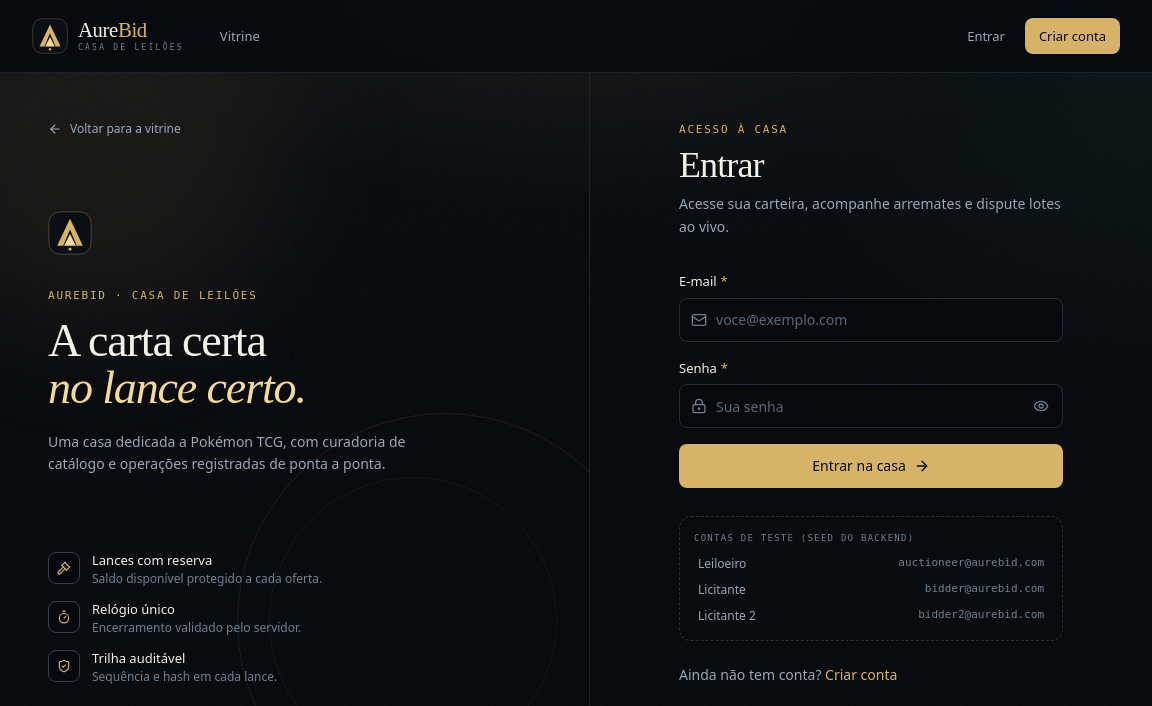
validação de formulários › informa credenciais inválidas sem criar sessão
Type "bidder@aurebid.com" into the field labelled "E-mail *". click: point(871, 320)
box: [679,298,1063,342]
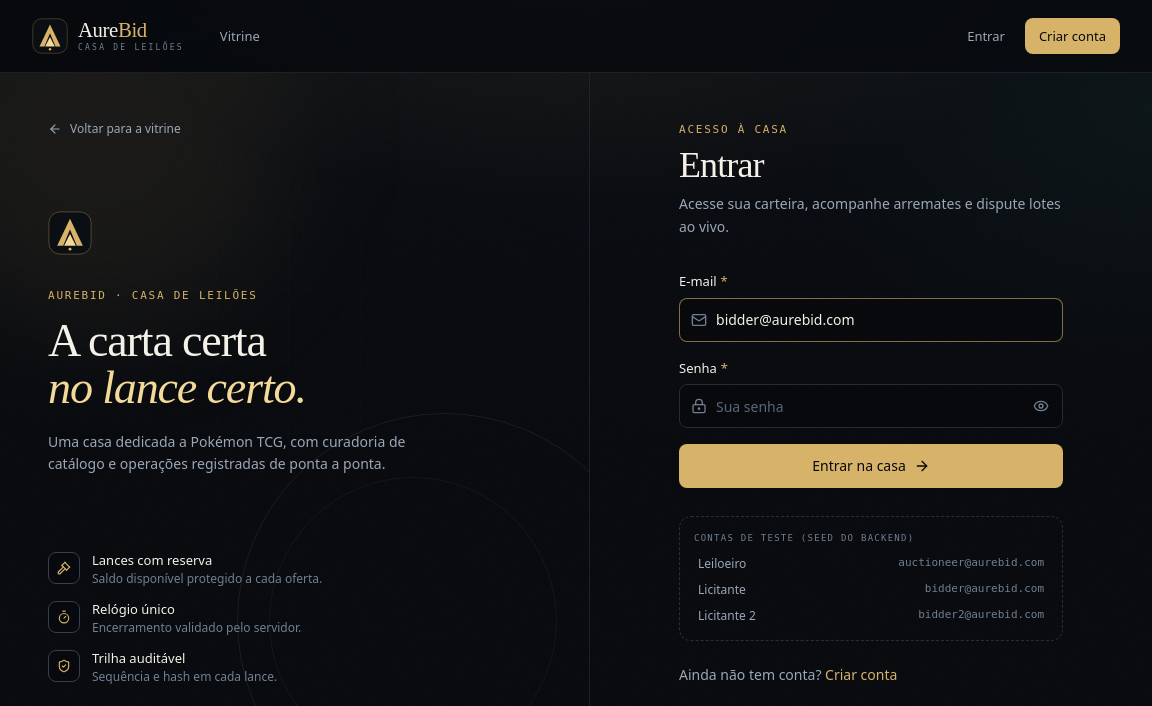
Type "senha-errada" into the password field labelled "Senha *". click: point(871, 406)
box: [679,384,1063,428]
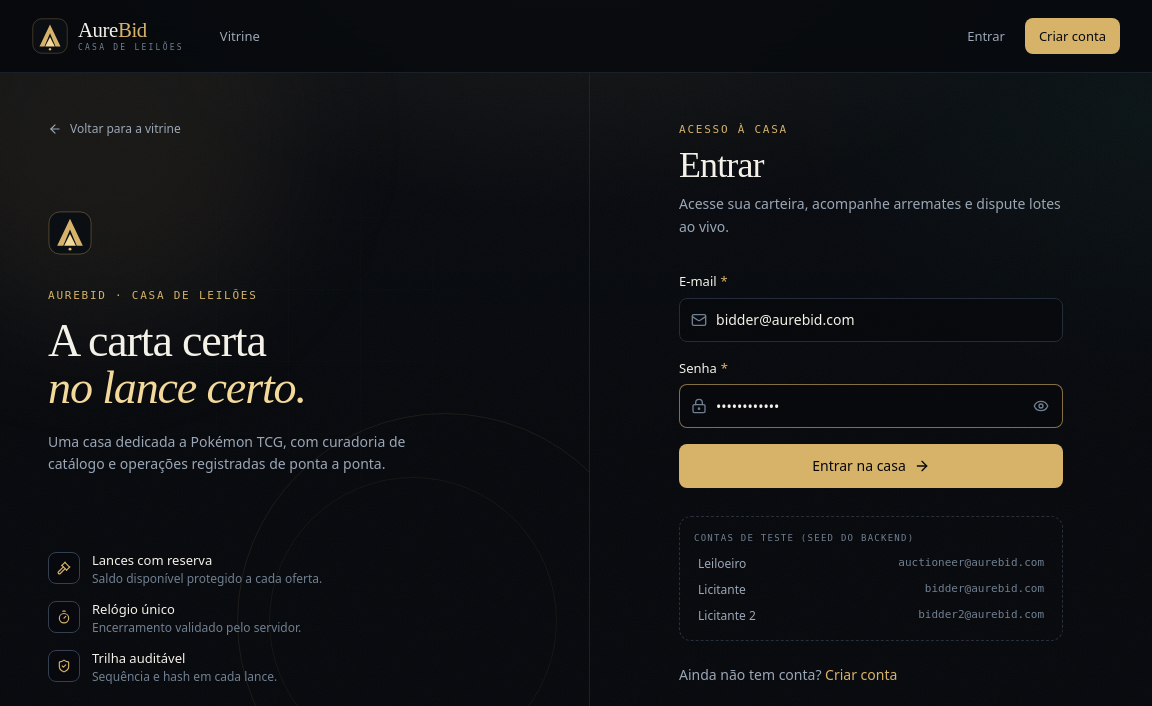
Click the button "Entrar na casa". click: point(871, 466)
box: [679,444,1063,488]
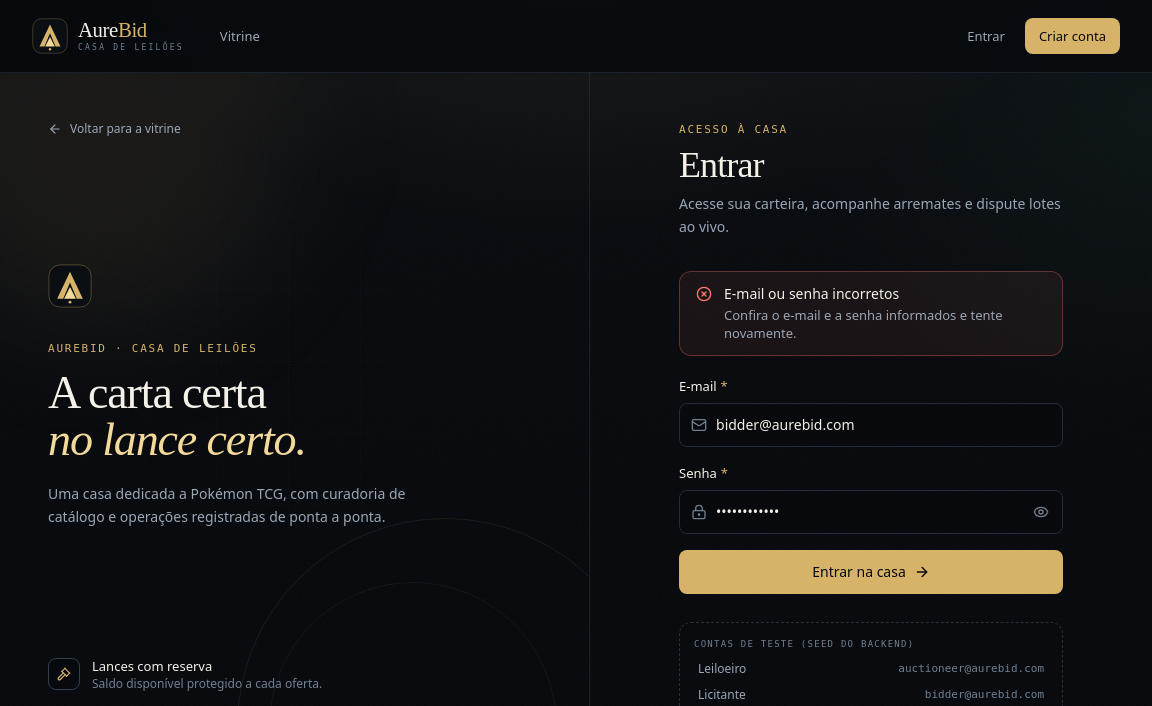
Expected: the heading "Entrar" is shown, [679,145,764,185]
Expected: the text "Confira o e-mail e a senha informados e tente novamente." is shown, [724,306,1046,343]
